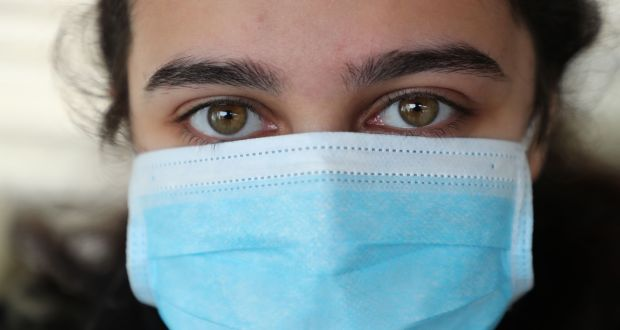with_mask: (83, 3, 604, 330)
